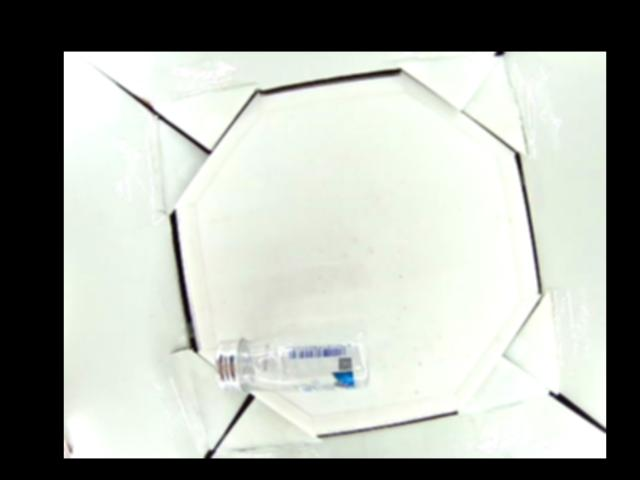Bottle: (213, 329, 369, 398)
